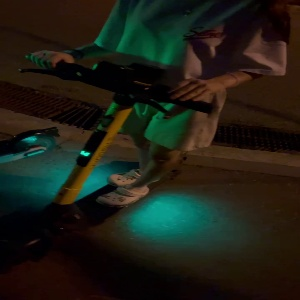human on a scooter: (12, 1, 290, 259)
